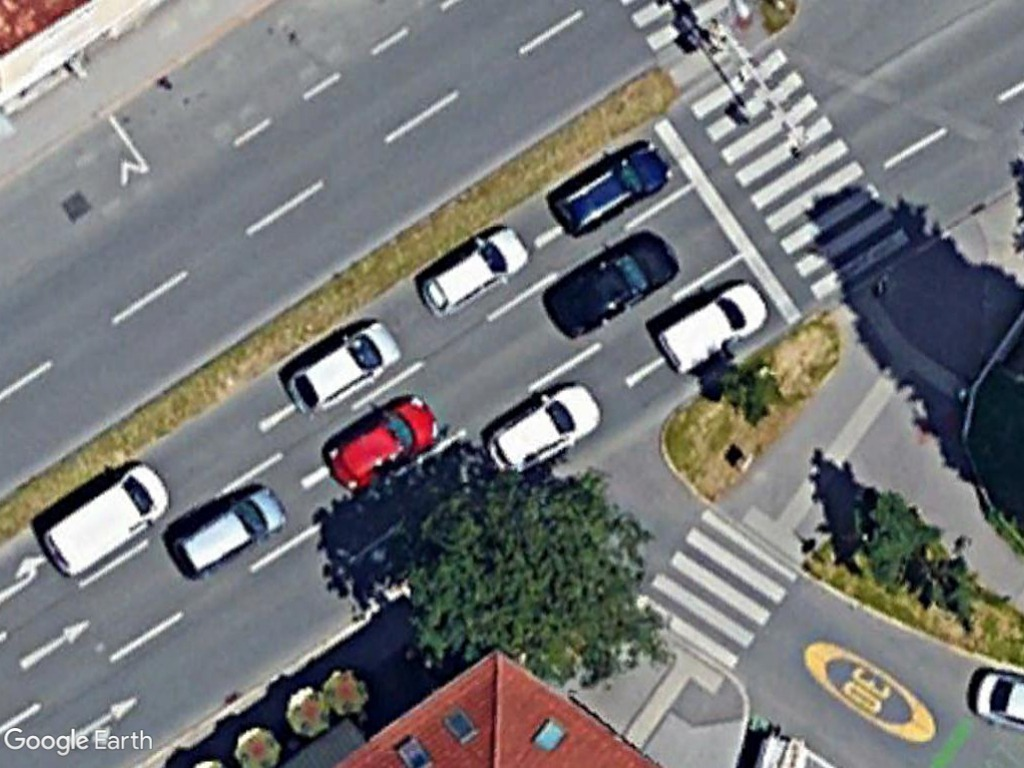car: (542, 220, 681, 344), (319, 384, 444, 496), (479, 375, 607, 480), (414, 216, 532, 328), (284, 313, 400, 424), (546, 138, 673, 239), (173, 480, 295, 584)
van: (36, 449, 172, 585), (655, 275, 771, 378)
